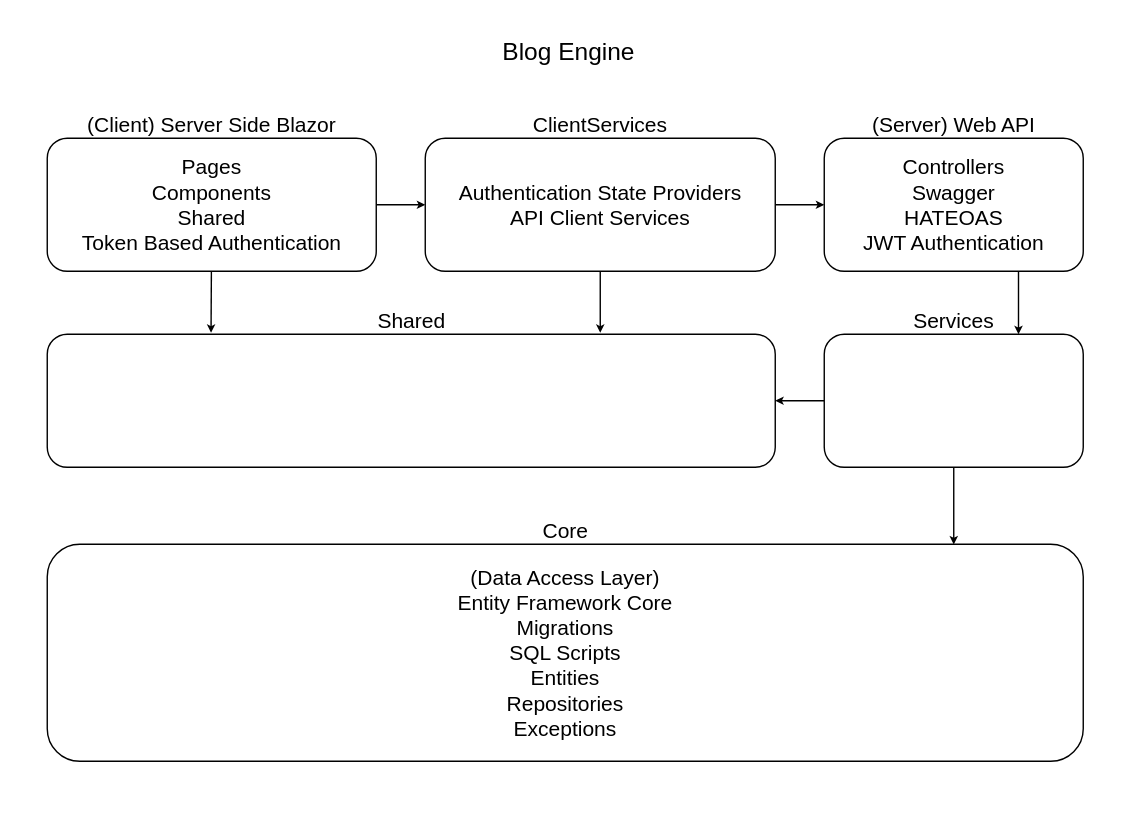
The diagram is 1137 pixels wide and 822 high, and some of its shapes have lost their labels. The shapes that lost their labels are listed below. From the top down, each one's centre as x and y in pixels, then its label:
At point 411,400: "DTOs Models Helpers Global Constants".
At point 953,400: "(Business Logic Layer)".
